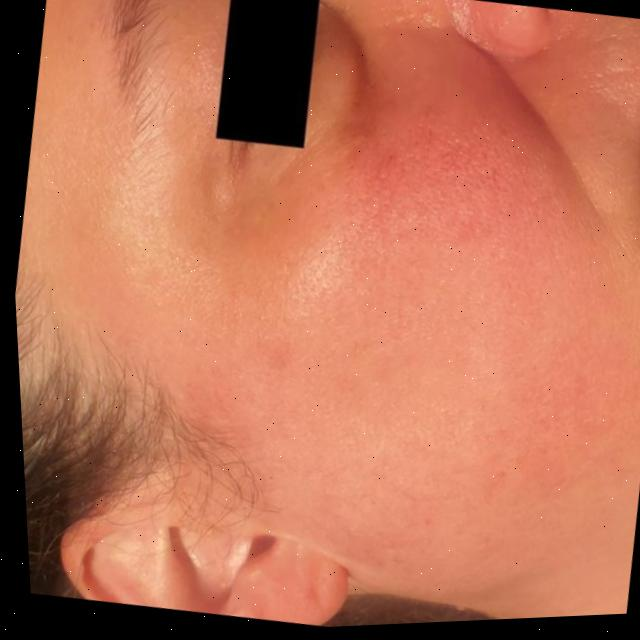Rosacea: (361, 125, 523, 264)
